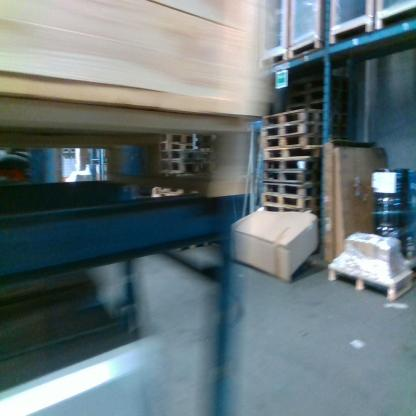pallet: (328, 250, 413, 301), (261, 107, 323, 130), (260, 122, 324, 141), (263, 134, 325, 150), (262, 145, 323, 161), (262, 192, 322, 207), (263, 168, 321, 183), (262, 159, 321, 172), (262, 181, 320, 194), (157, 149, 212, 161), (159, 160, 212, 172), (262, 204, 323, 214), (157, 133, 194, 145), (157, 141, 195, 152), (177, 244, 208, 252)
